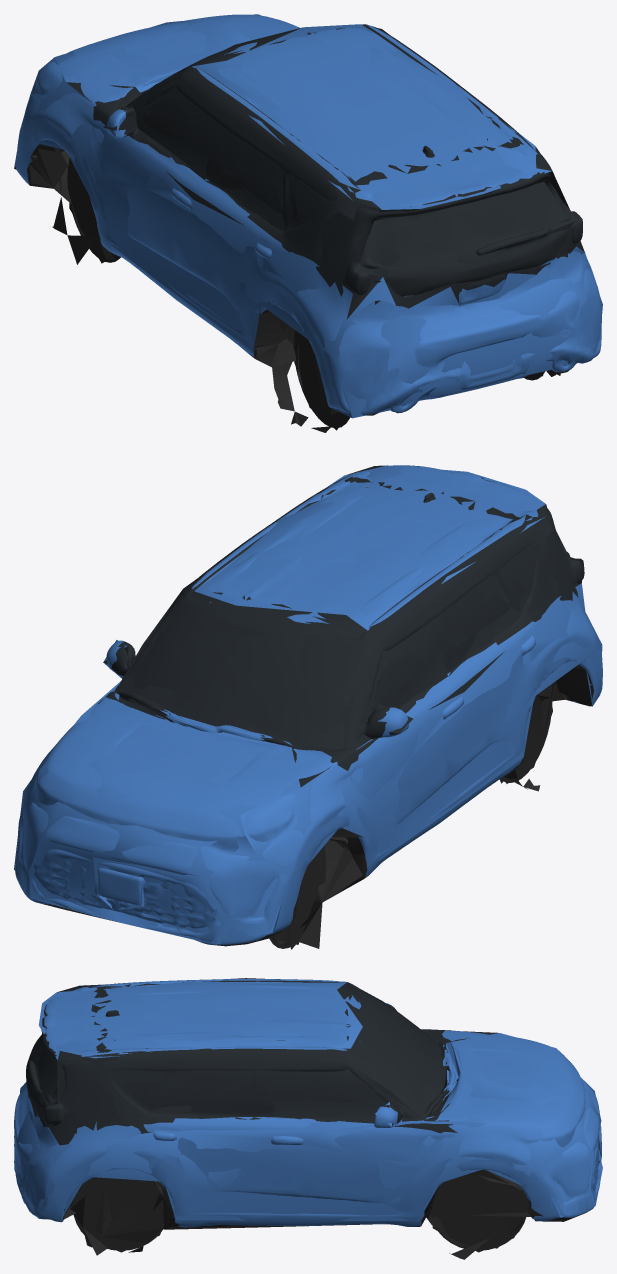
File: kia-soul.glb
3 views of the same model, one above another, from view 1: azimuth 30°, elevation 25°; view 2: azimuth 150°, elevation 25°; view 3: azimuth 270°, elevation 25° (orthographic). The views are drawn at different scales.
Visible parts, largest first — view 1: body, far; view 2: body, far; view 3: body, far.
Part boxes in pixels (<box>): body: <box>16,14,601,432</box>; far: <box>14,14,602,430</box>; body: <box>15,465,602,949</box>; far: <box>14,465,602,947</box>; body: <box>14,979,601,1255</box>; far: <box>14,978,602,1259</box>.
Size of the model in its own units: 1.94 by 1.62 by 4.21.
